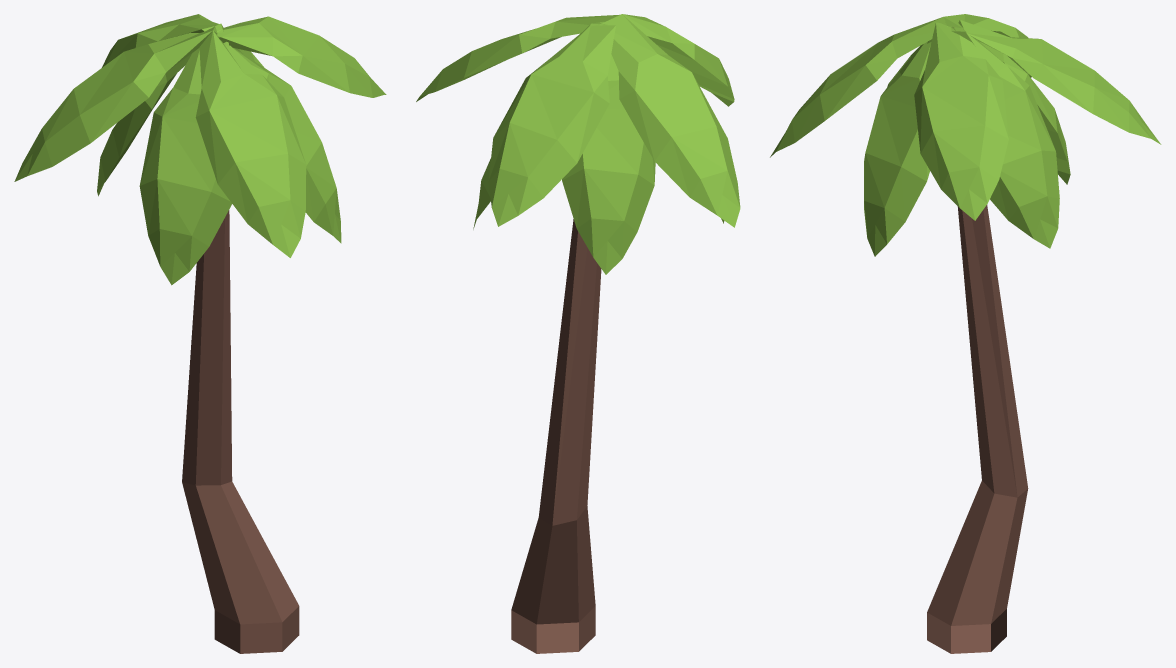
The picture shows the model from 3 angles, left to right: view 1: azimuth 30°, elevation 25°; view 2: azimuth 150°, elevation 25°; view 3: azimuth 270°, elevation 25°; orthographic projection. The views are drawn at different scales.
Visible parts, largest first — view 1: default; view 2: default; view 3: default.
Part boxes in pixels (bbox=[...]): default: bbox=[14, 14, 386, 653]; default: bbox=[416, 14, 740, 653]; default: bbox=[770, 14, 1161, 653].
Bounding box in the file's own units: 0.2346 × 0.4078 × 0.2435.
